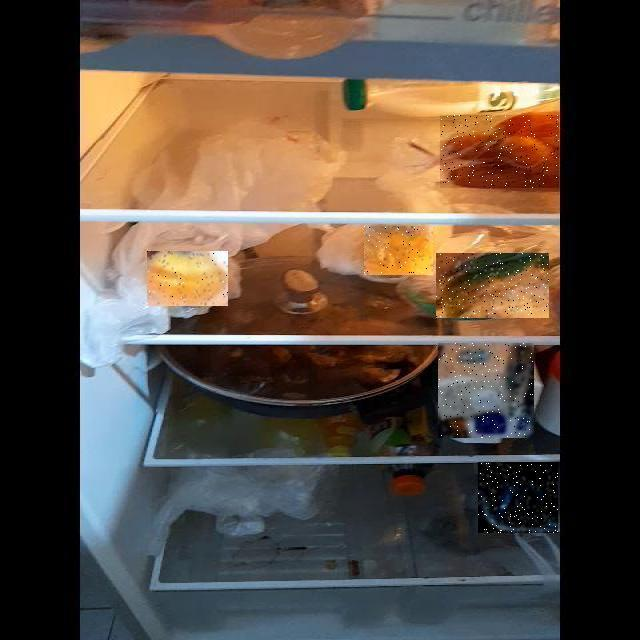broccoli: (200, 266, 640, 640)
carrot: (160, 94, 640, 282)
milk: (172, 219, 640, 640)
